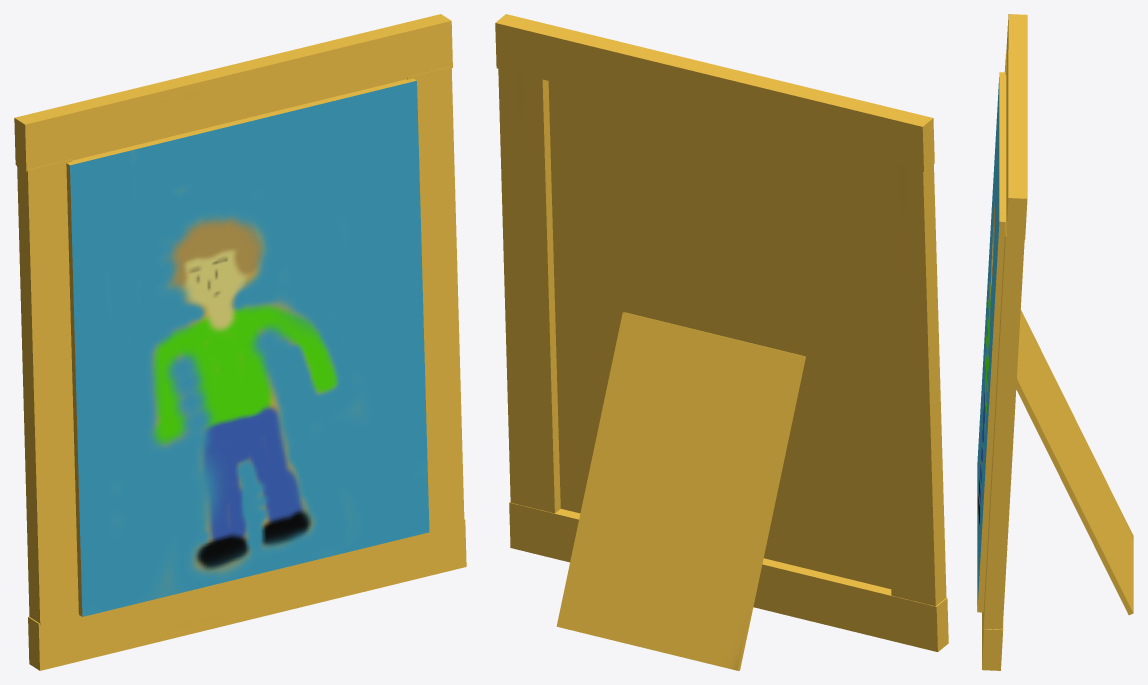
File: marco.fbx
3 renders of one model, left to right at view 1: azimuth 30°, elevation 25°; view 2: azimuth 150°, elevation 25°; view 3: azimuth 270°, elevation 25°, orthographic. The views are drawn at different scales.
Visible parts, largest first — view 1: Cubo.003, Cubo.001, Cubo.002; view 2: Cubo.003, Cubo, Cubo.002, Cubo.001; view 3: Cubo, Cubo.002, Cubo.003, Cubo.001.
Boxes of the visible parts, x1,y1,x2,y2 form: Cubo.003: [66, 78, 429, 616]; Cubo.001: [14, 14, 466, 670]; Cubo.002: [17, 66, 464, 625]; Cubo.003: [548, 81, 891, 588]; Cubo: [556, 312, 805, 670]; Cubo.002: [498, 68, 946, 606]; Cubo.001: [495, 14, 948, 651]; Cubo: [1016, 309, 1133, 614]; Cubo.002: [983, 54, 1024, 629]; Cubo.003: [977, 72, 1006, 612]; Cubo.001: [982, 14, 1027, 670].
Size of the model in its own units: 2422 by 2908 by 869.
